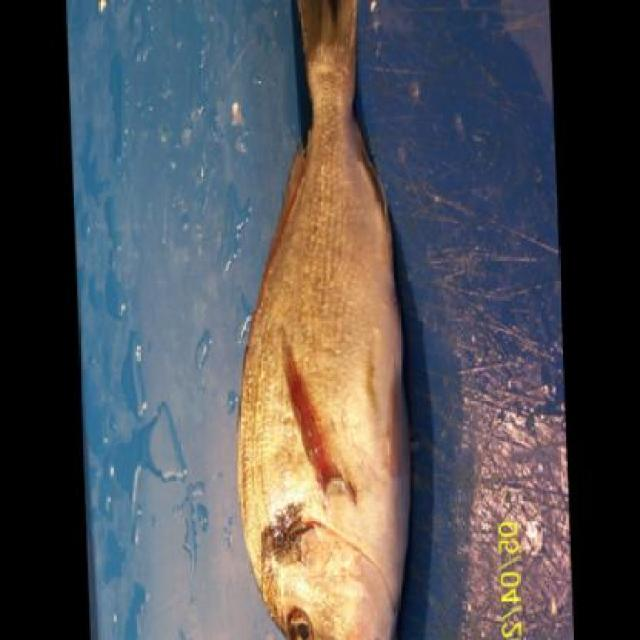Healthy Fish: (229, 0, 424, 640)
